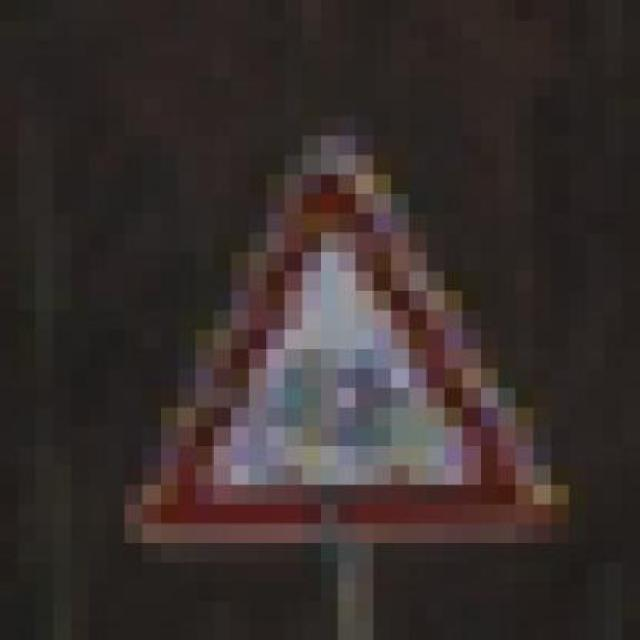CYCLE ROUTE AHEAD WARNING: (107, 135, 587, 563)
